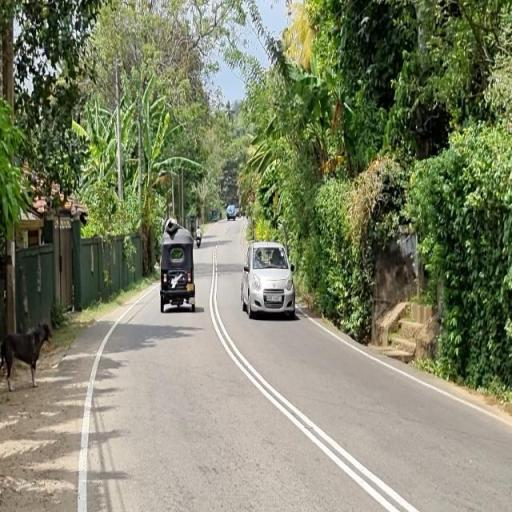double_white_line: (209, 305, 419, 512)
